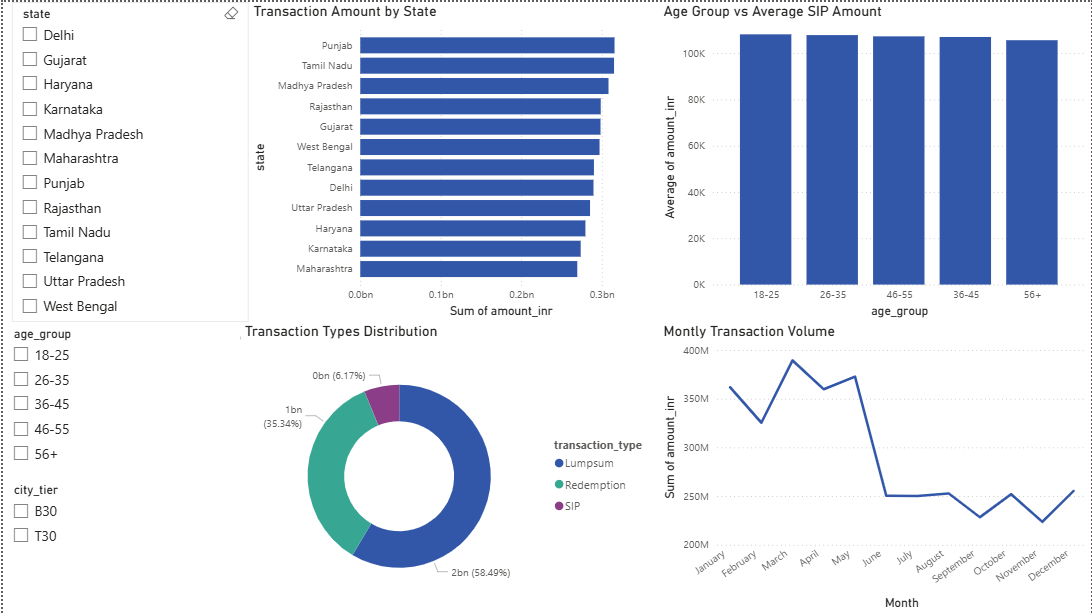

The dashboard page shown, as its layout file describes it:
{"tool":"powerbi","page":{"name":"Investor Analytics","canvas":[1280,720],"ordinal":2},"visuals":[{"type":"slicer","fields":{"Values":["Investor Transactions.state"]},"box":[10.3,0,279.4,376.5],"z":0},{"type":"slicer","fields":{"Values":["Investor Transactions.city_tier"]},"box":[0,560.3,279.4,160.3],"z":1000},{"type":"slicer","fields":{"Values":["Investor Transactions.age_group"]},"box":[0,376.5,279.4,183.8],"z":2000},{"type":"clusteredBarChart","title":"Transaction Amount by State","fields":{"Category":["Investor Transactions.state"],"Y":["Sum(Investor Transactions.amount_inr)"]},"box":[289.7,0,482.4,376.5],"z":3000},{"type":"donutChart","title":"Transaction Types Distribution","fields":{"Category":["Investor Transactions.transaction_type"],"Y":["Sum(Investor Transactions.amount_inr)"]},"box":[279.4,376.5,492.6,344.1],"z":4000},{"type":"clusteredColumnChart","title":"Age Group vs Average SIP Amount","fields":{"Category":["Investor Transactions.age_group"],"Y":["Avg(Investor Transactions.amount_inr)"]},"box":[772.1,0,507.4,376.5],"z":5000},{"type":"lineChart","title":"Montly Transaction Volume ","fields":{"Y":["Sum(Investor Transactions.amount_inr)"],"Category":["Investor Transactions.transaction_date.Variation.Date Hierarchy.Month"]},"box":[772.1,376.5,507.4,344.1],"z":6000}]}

Visuals, with their boxes in screenshot pixels (x1, y1, x2, y2), scaled from the page's 1280x720 canvas onto the 1092x614 screenshot:
slicer - Investor Transactions.state: 9/0/247/321
slicer - Investor Transactions.city_tier: 0/478/238/613
slicer - Investor Transactions.age_group: 0/321/238/478
"Transaction Amount by State" clusteredBarChart: 247/0/659/321
"Transaction Types Distribution" donutChart: 238/321/659/613
"Age Group vs Average SIP Amount" clusteredColumnChart: 659/0/1091/321
"Montly Transaction Volume " lineChart: 659/321/1091/613
